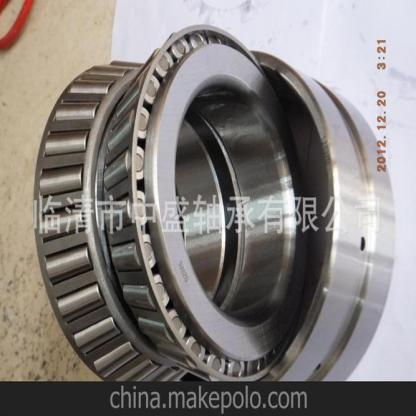FOD: (100, 19, 314, 393)
